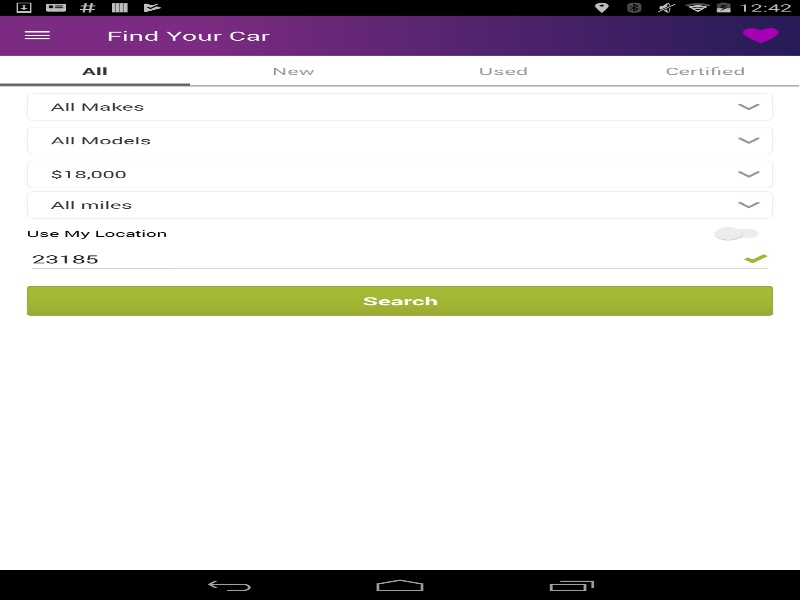Button: (26, 285, 773, 315), (0, 15, 74, 55)
Input: (26, 245, 773, 273)
